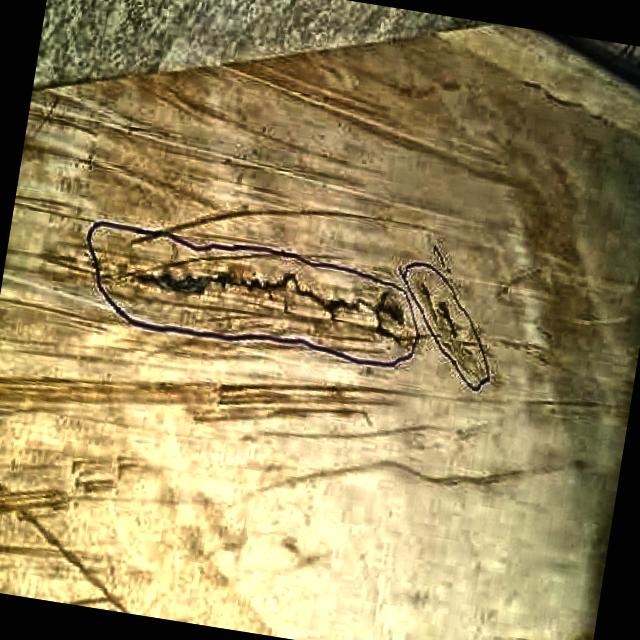crack: (127, 246, 409, 342), (417, 286, 463, 336)
